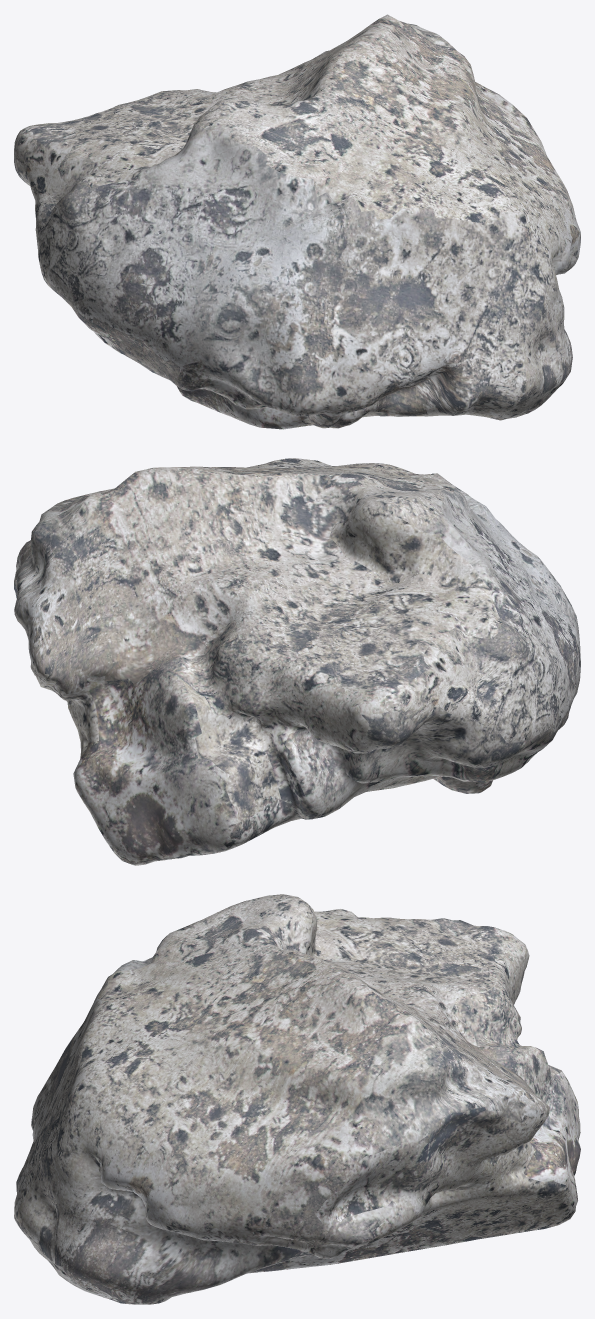
Rendered from SM_Large_Rock_C.fbx.
3 renders of one model, top to bottom at view 1: azimuth 30°, elevation 25°; view 2: azimuth 150°, elevation 25°; view 3: azimuth 270°, elevation 25°, orthographic. The views are drawn at different scales.
Parts seen in each view (by area): view 1: SM_Large_Rock_C_LOD0; view 2: SM_Large_Rock_C_LOD0; view 3: SM_Large_Rock_C_LOD0.
Part boxes in pixels (x1=…): SM_Large_Rock_C_LOD0: x1=14, y1=14, x2=580, y2=429; SM_Large_Rock_C_LOD0: x1=14, y1=458, x2=580, y2=865; SM_Large_Rock_C_LOD0: x1=14, y1=894, x2=580, y2=1304.
Size of the model in its own units: 149 by 151 by 90.27.
Materials: 1 (1 with a texture image).
